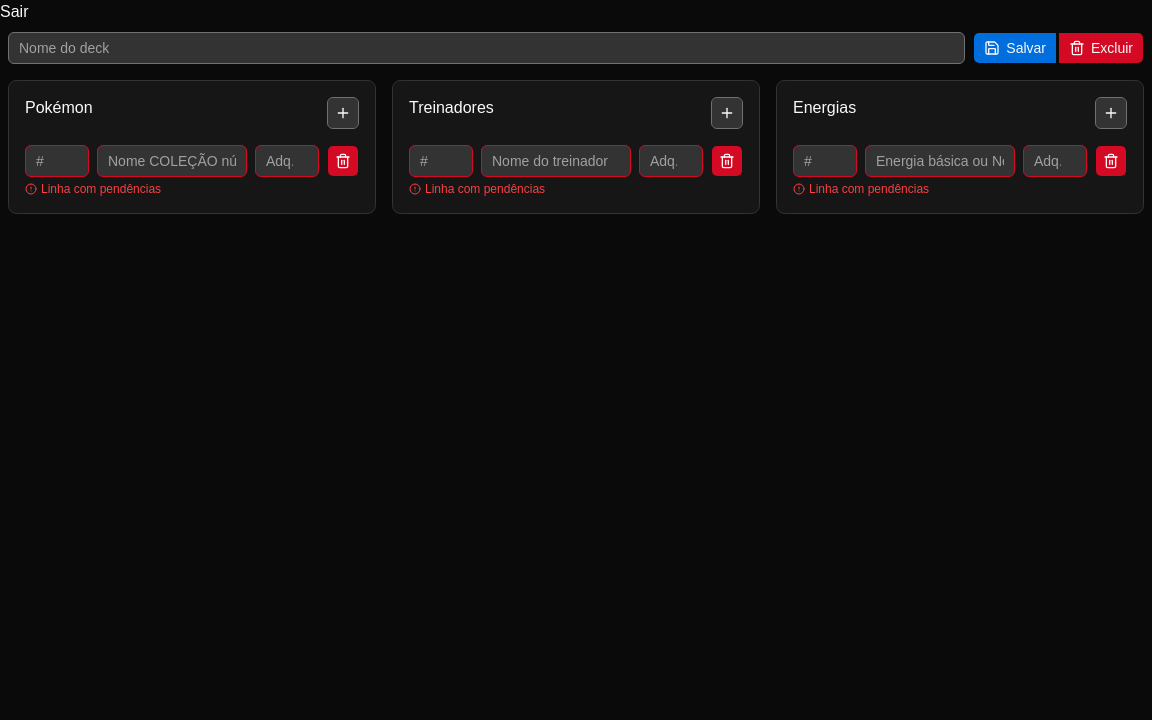
it: DeckEditor › still asks for confirmation before deleting the deck
This screenshot has width=1152, height=720.
What coordinates should you click on to do the following:
click the button with aria-label "Excluir deck"
I would click on:
 (1101, 48)
Its box is 1058,32 -> 1144,64.
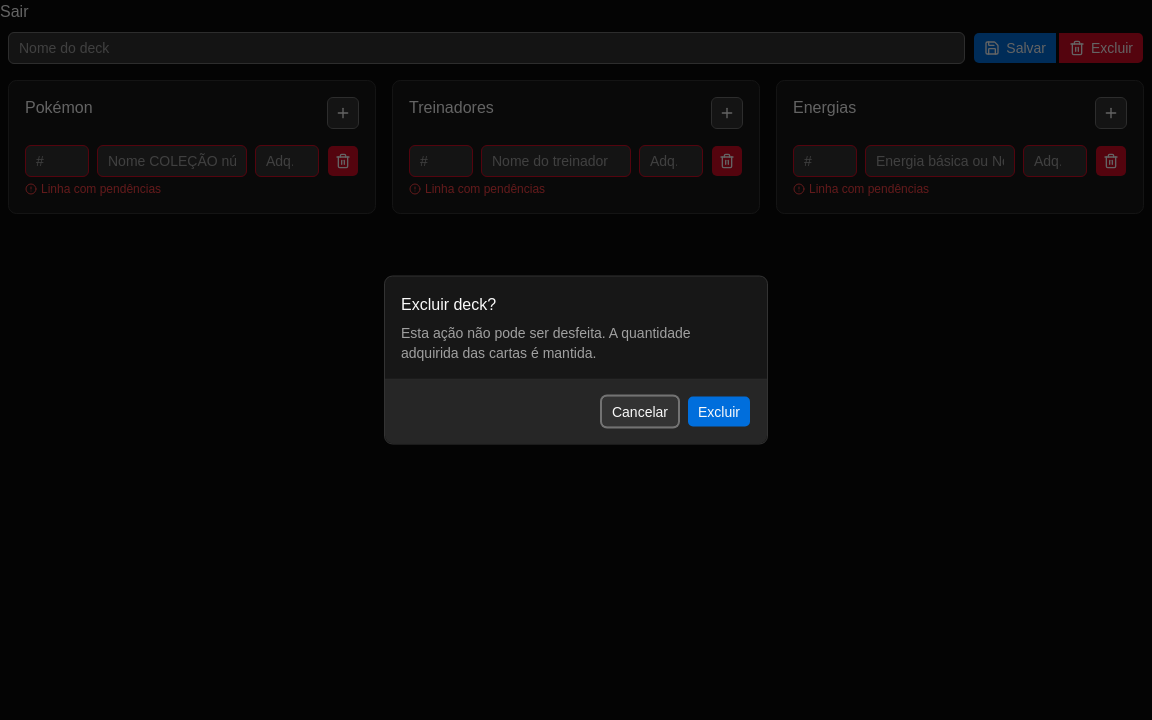
Expected: the dialog is shown, 384,276 -> 768,444
